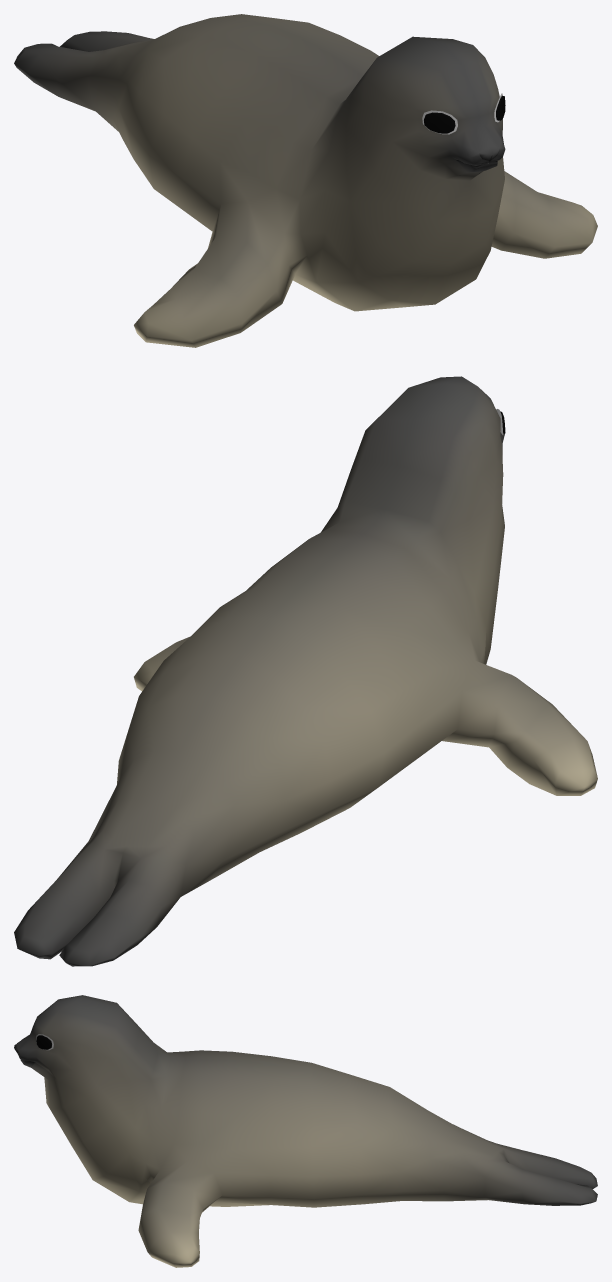
Rendered from seal.fbx.
The picture shows the model from 3 angles, top to bottom: view 1: azimuth 30°, elevation 25°; view 2: azimuth 150°, elevation 25°; view 3: azimuth 270°, elevation 25°; orthographic projection. The views are drawn at different scales.
Visible parts, largest first — view 1: base.081; view 2: base.081; view 3: base.081.
Part boxes in pixels (box(x1,y1,x2,y2)): base.081: box(14, 14, 597, 347); base.081: box(14, 376, 597, 966); base.081: box(14, 995, 597, 1267).
Size of the model in its own units: 114 by 71.33 by 192.
